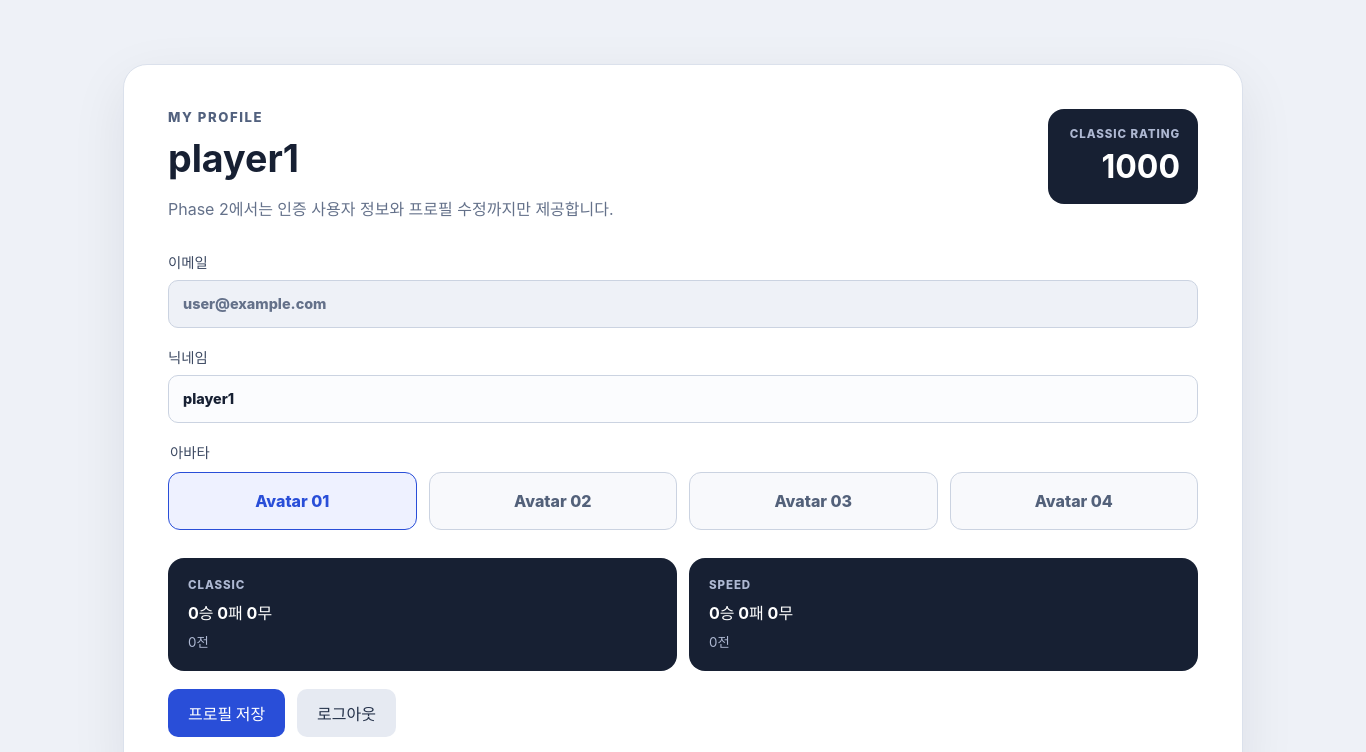
authentication views › updates nickname and avatar from the profile screen
The width and height of the screenshot is (1366, 752).
Replace the text in the field labelled "닉네임" with "newName" at (683, 399), box [168,375,1198,423]
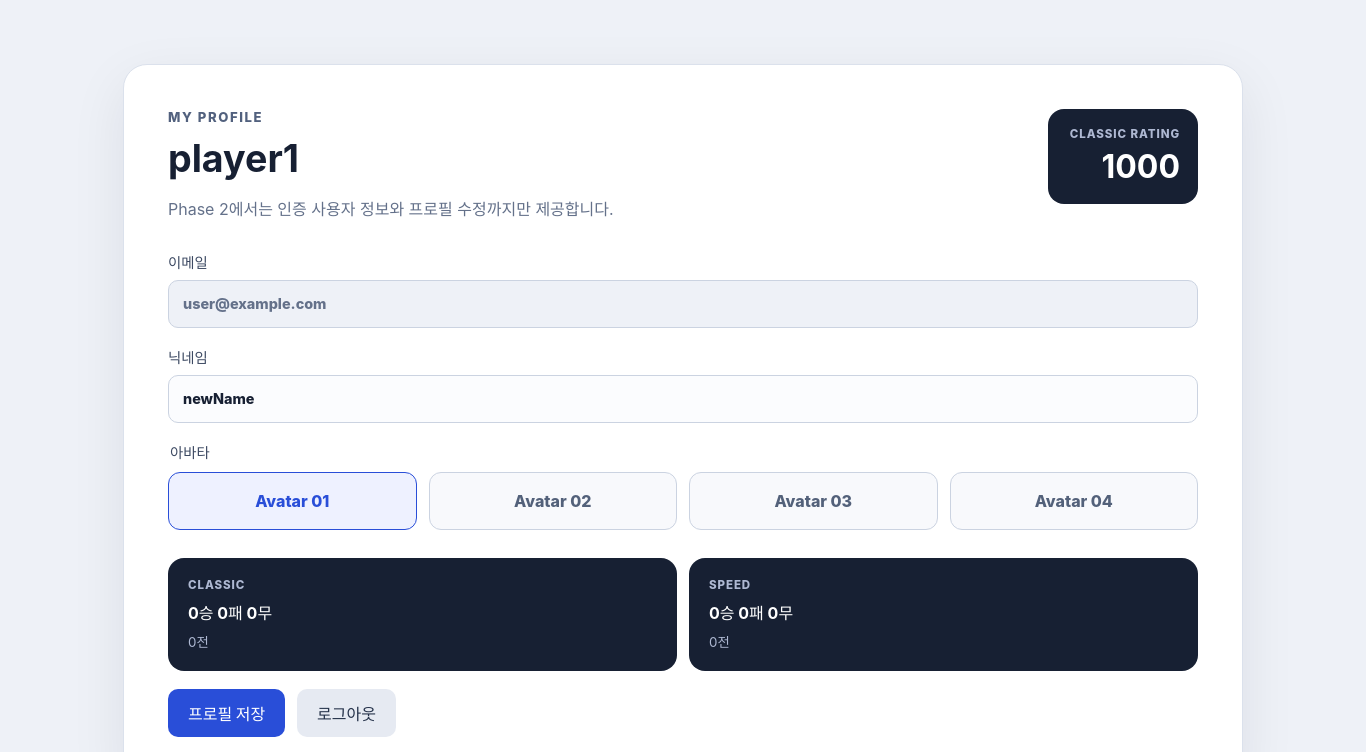
Click the radio button labelled "Avatar 03" at (813, 501), box [689,472,938,530]
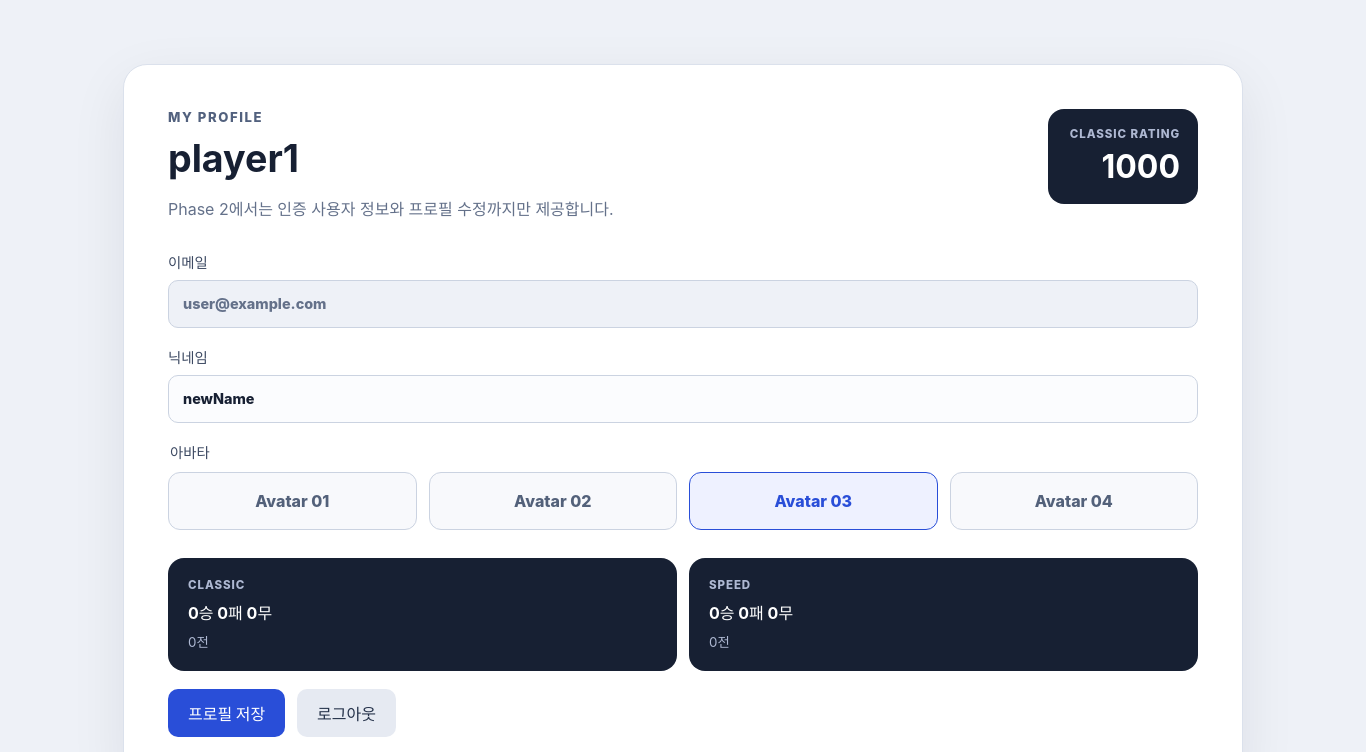
Submit the form, box [168,251,1198,737]
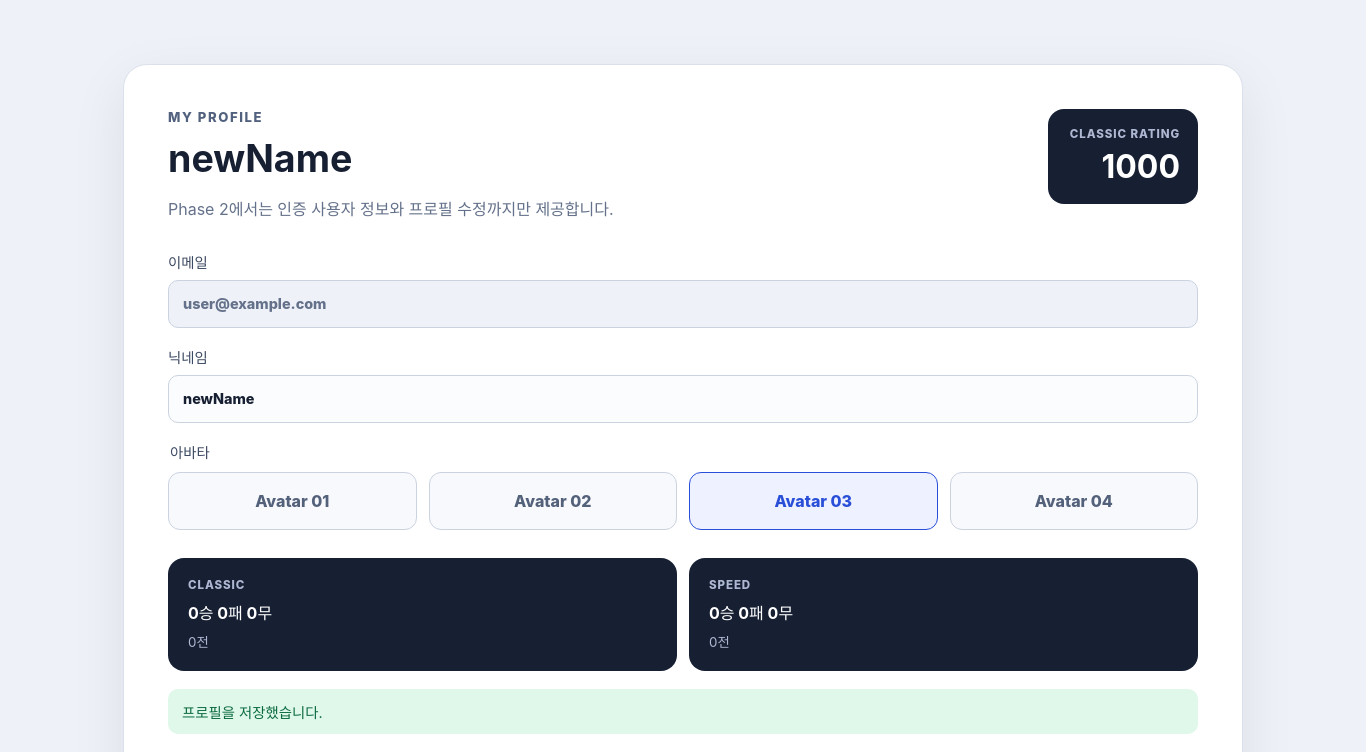
Now the heading "newName" is shown, box [168,136,352,181]
Now the text "프로필을 저장했습니다" is shown, box [182,704,323,721]
